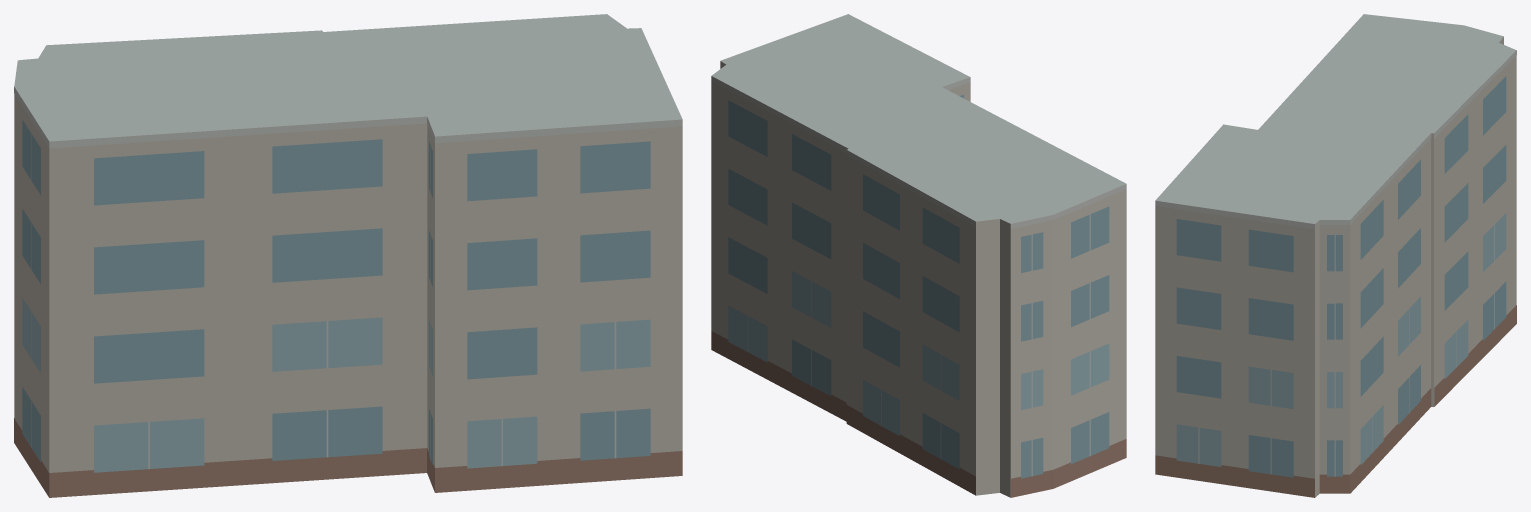
Rendered from survey-upis-32456379.glb.
3 views of the same model, side by side, from view 1: azimuth 30°, elevation 25°; view 2: azimuth 150°, elevation 25°; view 3: azimuth 270°, elevation 25° (orthographic). The views are drawn at different scales.
Parts seen in each view (by area): view 1: survey-upis-32456379.tmp; view 2: survey-upis-32456379.tmp; view 3: survey-upis-32456379.tmp.
Boxes of the visible parts, box(x1,y1,x2,y2) form: survey-upis-32456379.tmp: box(14, 14, 682, 497); survey-upis-32456379.tmp: box(711, 14, 1126, 497); survey-upis-32456379.tmp: box(1155, 14, 1516, 497).
Bounding box in the file's own units: 21.08 × 12.8 × 15.33.
